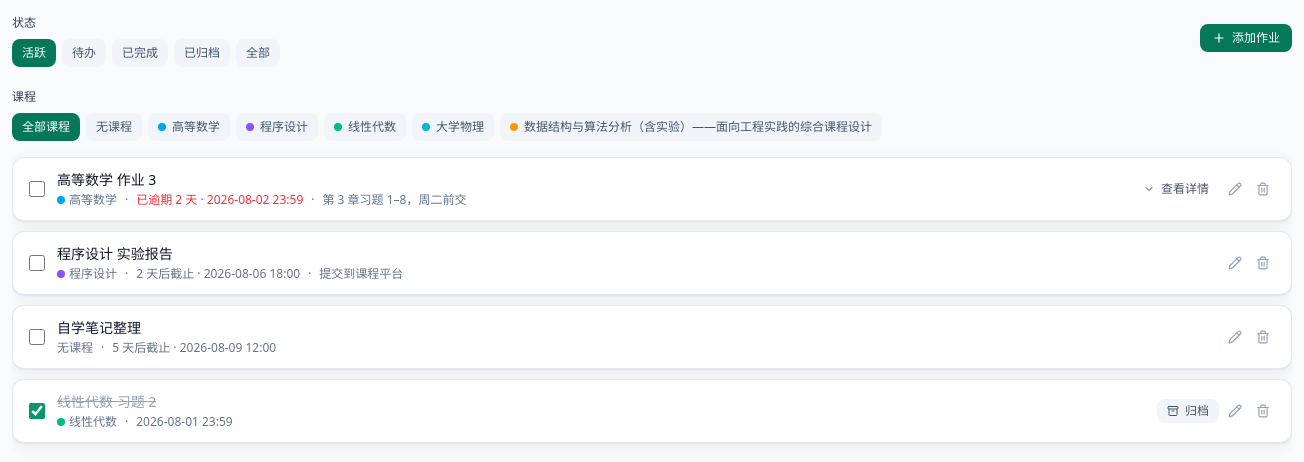
Test case: 视图空态 › 筛选无结果时提示
Click the button "已归档".
click(202, 53)  # box x1=174 y1=39 x2=230 y2=67
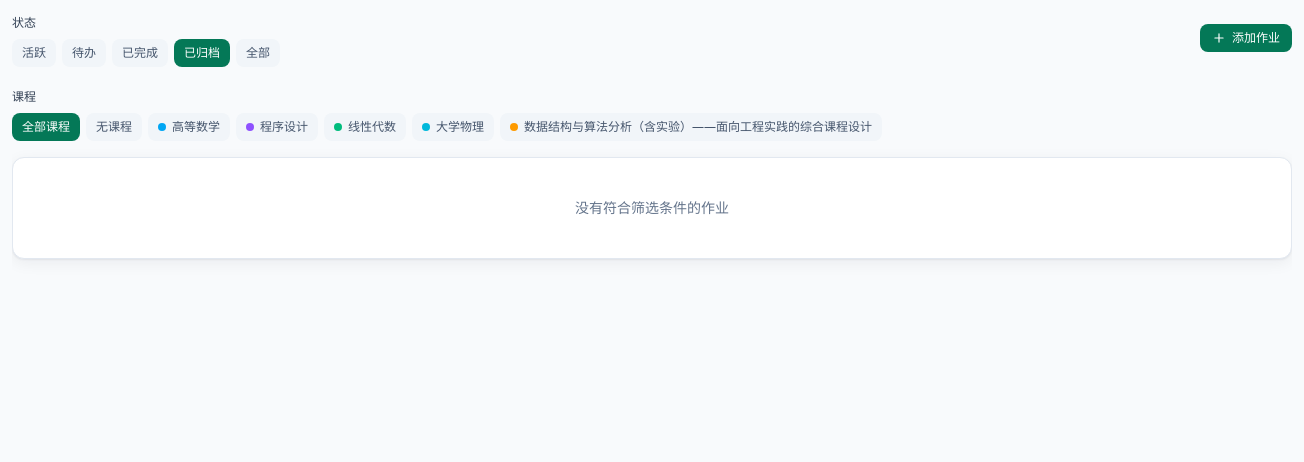
Check: the text "没有符合筛选条件的作业" is shown, box x1=575 y1=198 x2=729 y2=217
